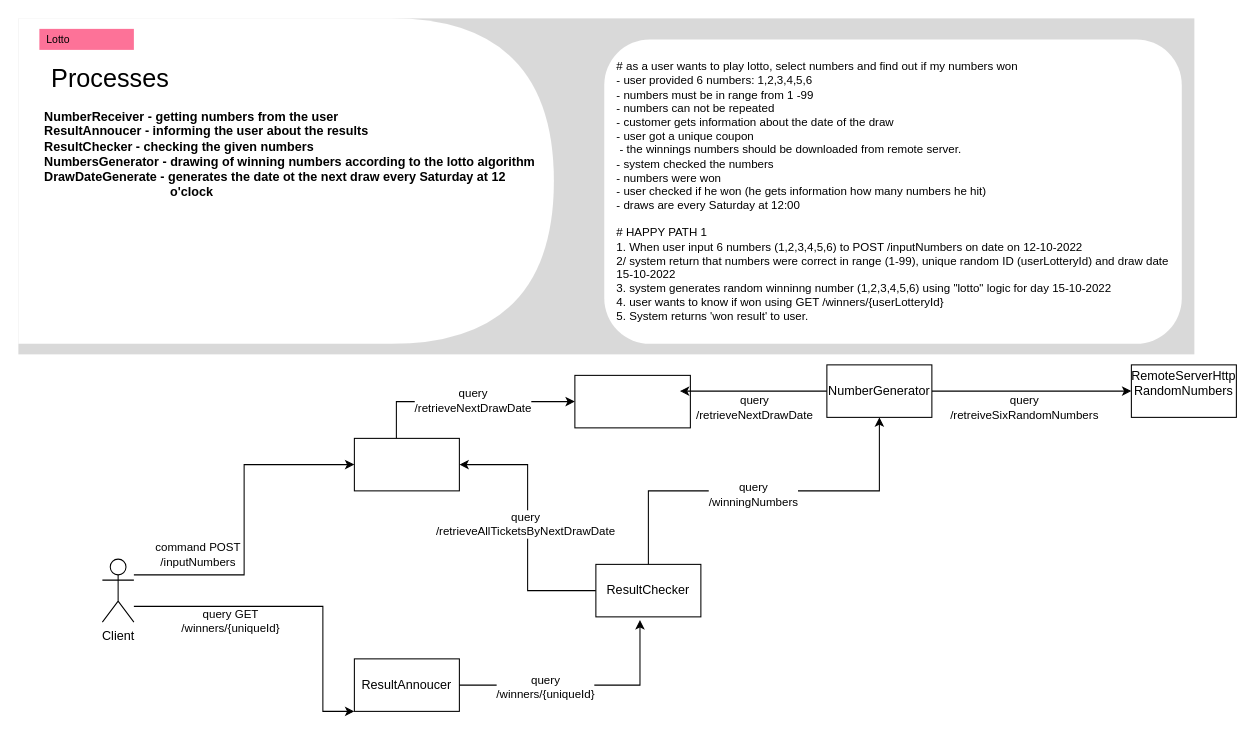
The diagram is 1255 pixels wide and 738 high, and some of its shapes have lost their labels. The centre of each missing label's shape, as x and y in pixels:
DrawDateGenerator: [632,401]
NumberReceiver: [406,464]
